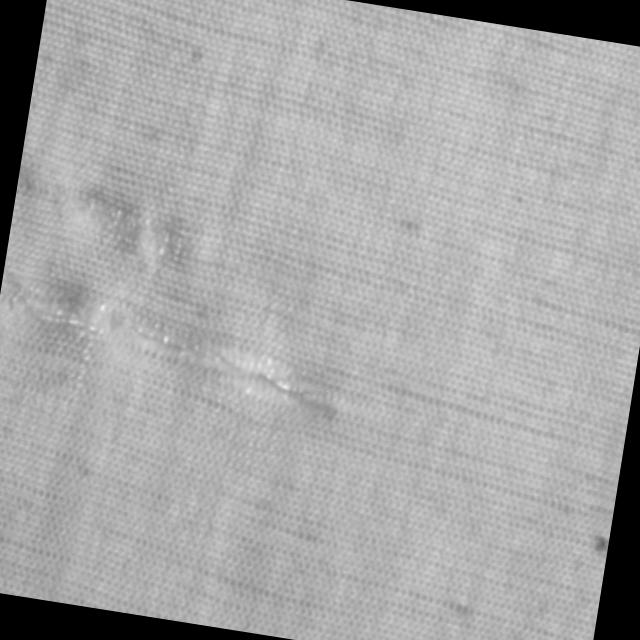thread error: (0, 270, 363, 430), (76, 177, 206, 274)
